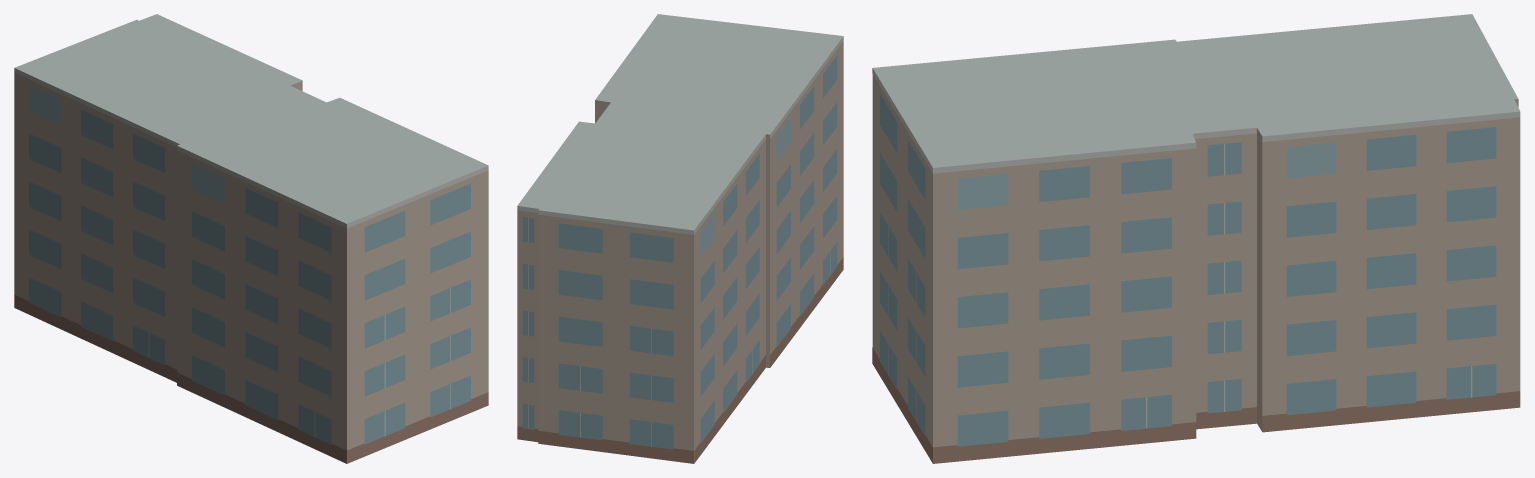
Rendered from survey-upis-32913859.glb.
3 views of the same model, side by side, from view 1: azimuth 30°, elevation 25°; view 2: azimuth 150°, elevation 25°; view 3: azimuth 270°, elevation 25° (orthographic). The views are drawn at different scales.
Visible parts, largest first — view 1: survey-upis-32913859.tmp; view 2: survey-upis-32913859.tmp; view 3: survey-upis-32913859.tmp.
Boxes of the visible parts, left/top/right/bottom form: survey-upis-32913859.tmp: left=14, top=14, right=488, bottom=463; survey-upis-32913859.tmp: left=517, top=14, right=843, bottom=463; survey-upis-32913859.tmp: left=872, top=14, right=1520, bottom=463.
Bounding box in the file's own units: 14.07 × 12.6 × 25.01.
